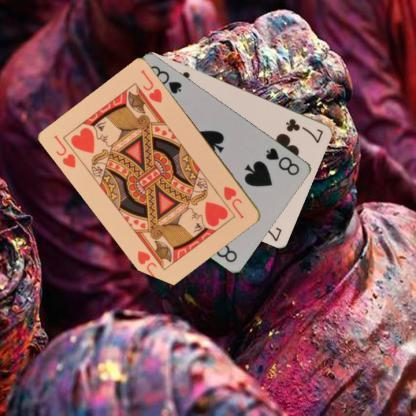7c: (283, 116, 325, 144)
8s: (263, 144, 301, 177)
Jh: (51, 132, 77, 170), (221, 184, 246, 220)
